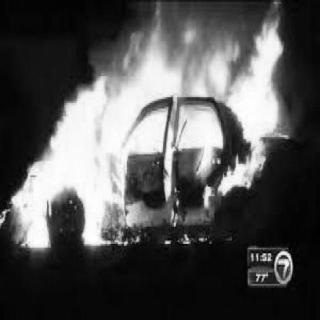Fire: (0, 9, 289, 247)
